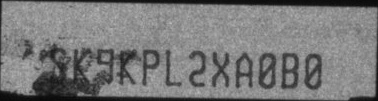0: (304, 53, 323, 90), (258, 51, 276, 89)
2: (188, 48, 205, 88)
9: (97, 47, 113, 84)
A: (234, 52, 254, 88)
B: (281, 52, 300, 89)
K: (72, 47, 91, 85), (119, 48, 136, 85)
L: (165, 48, 183, 86)
P: (141, 48, 160, 85)
S: (48, 47, 68, 84)
X: (211, 50, 230, 87)
